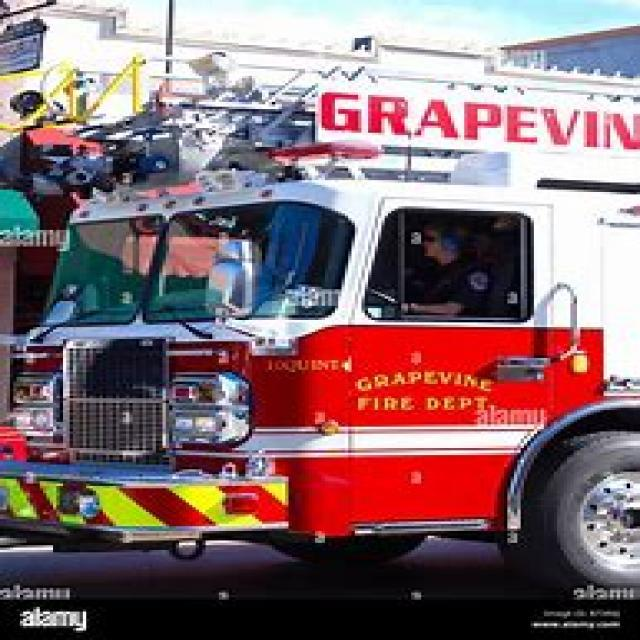Fire-engine: (0, 50, 637, 598)
